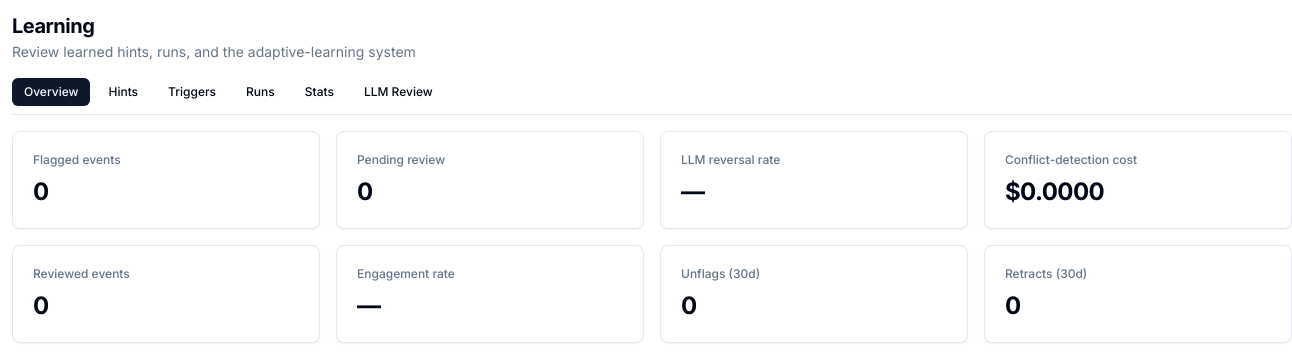
Test: the tab LearningPage opens on › switches the body when a tab is clicked
The image size is (1292, 360).
Expected: the text "Flagged events" is shown, [33,152,121,167]
Click the button "Runs" at (260,92), box [234,78,287,106]
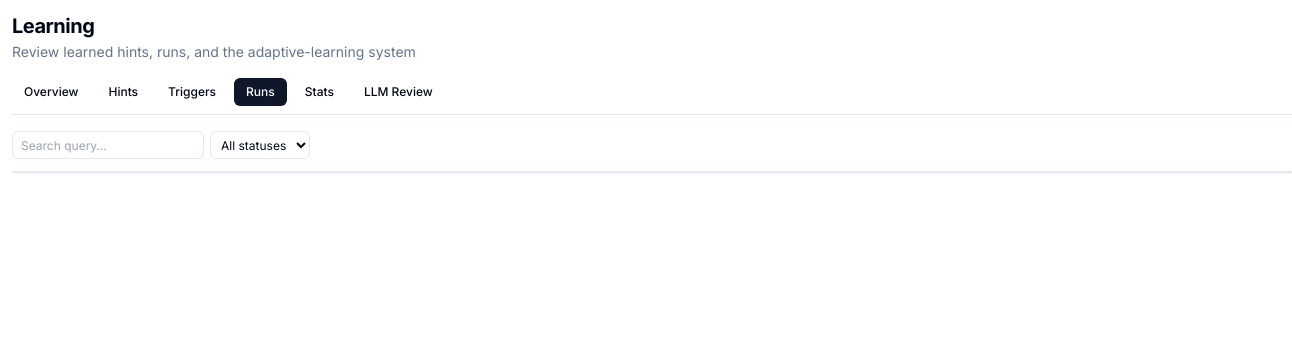
Result: the field with placeholder "Search query…" is shown at [12,131,204,159]
Result: the text "Flagged events" is gone
